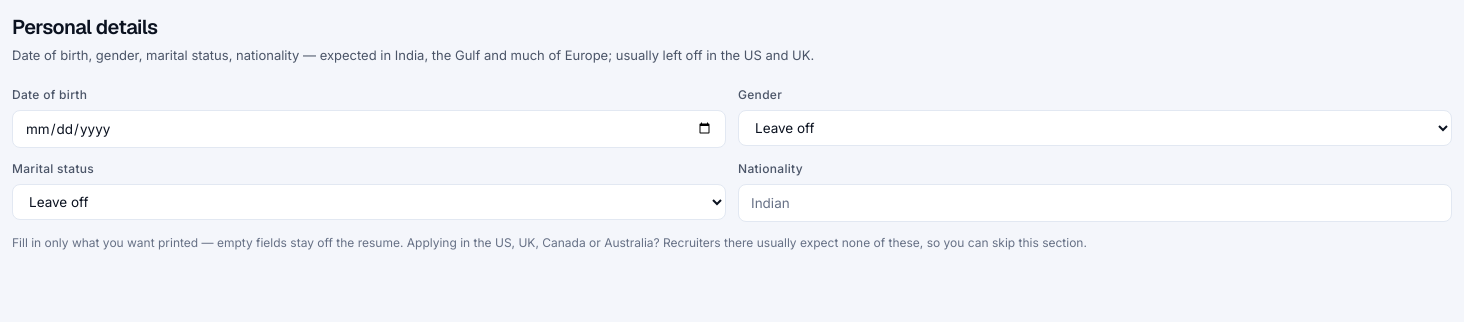
Test: PersonalDetailsForm › takes any nationality and suggests common ones
The width and height of the screenshot is (1464, 322).
Type "Ind" into the dropdown labelled "Nationality".
click(1095, 203); type("Ind")  # box left=738, top=184, right=1452, bottom=222
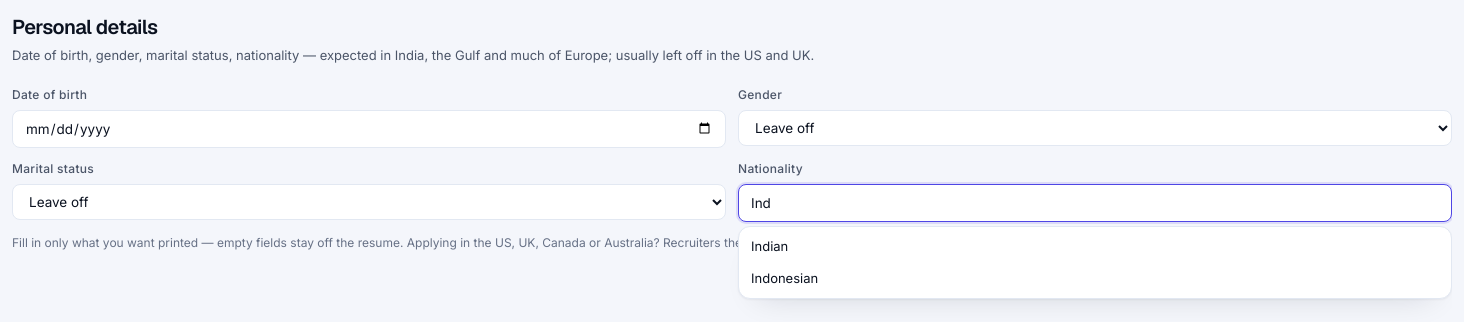
Expected: the option "Indian" is shown, left=751, top=238, right=788, bottom=254
